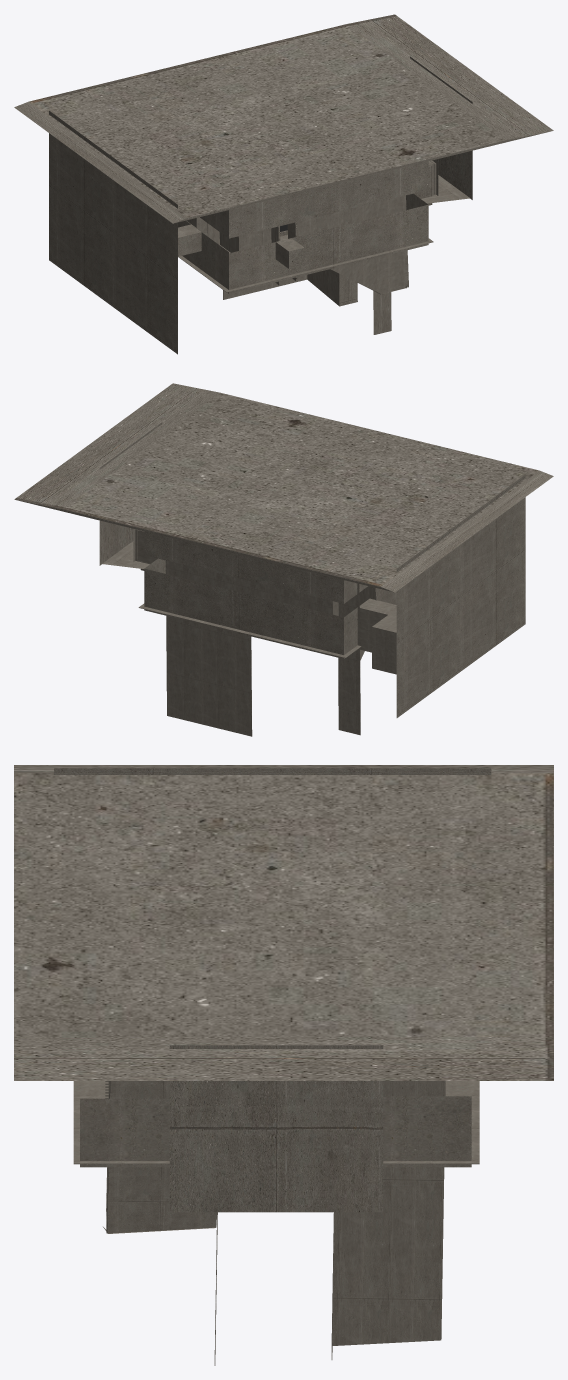
File: 3drop_gallery_v19.glb
The picture shows the model from 3 angles, top to bottom: view 1: azimuth 30°, elevation 25°; view 2: azimuth 150°, elevation 25°; view 3: azimuth 270°, elevation 25°; orthographic projection. The views are drawn at different scales.
Visible parts, largest first — view 1: frameConcreteExternal, frameVisitableZoneSuround, ctrlPlateformConcrete_grndPhys; view 2: frameConcreteExternal, frameVisitableZoneSuround, ctrlPlateformConcrete_grndPhys, entranceLobbyConcrete; view 3: frameConcreteExternal, ctrlPlateformConcrete_grndPhys, frameVisitableZoneSuround.
Boxes of the visible parts, <box> form: frameConcreteExternal: <box>14,14,553,354</box>; frameVisitableZoneSuround: <box>186,195,408,334</box>; ctrlPlateformConcrete_grndPhys: <box>178,56,472,292</box>; frameConcreteExternal: <box>14,383,553,717</box>; frameVisitableZoneSuround: <box>165,560,381,736</box>; ctrlPlateformConcrete_grndPhys: <box>99,422,361,658</box>; entranceLobbyConcrete: <box>133,529,157,564</box>; frameConcreteExternal: <box>14,765,553,1167</box>; ctrlPlateformConcrete_grndPhys: <box>73,1045,479,1212</box>; frameVisitableZoneSuround: <box>103,1081,445,1365</box>.
Size of the model in its own units: 153 by 85.94 by 110.
Materials: 2 (2 with a texture image).
